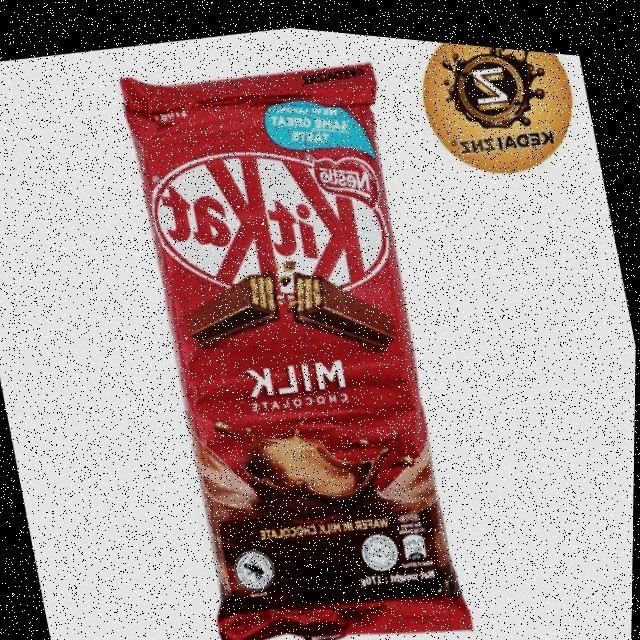kitkat_chocolate: (117, 60, 478, 617)
